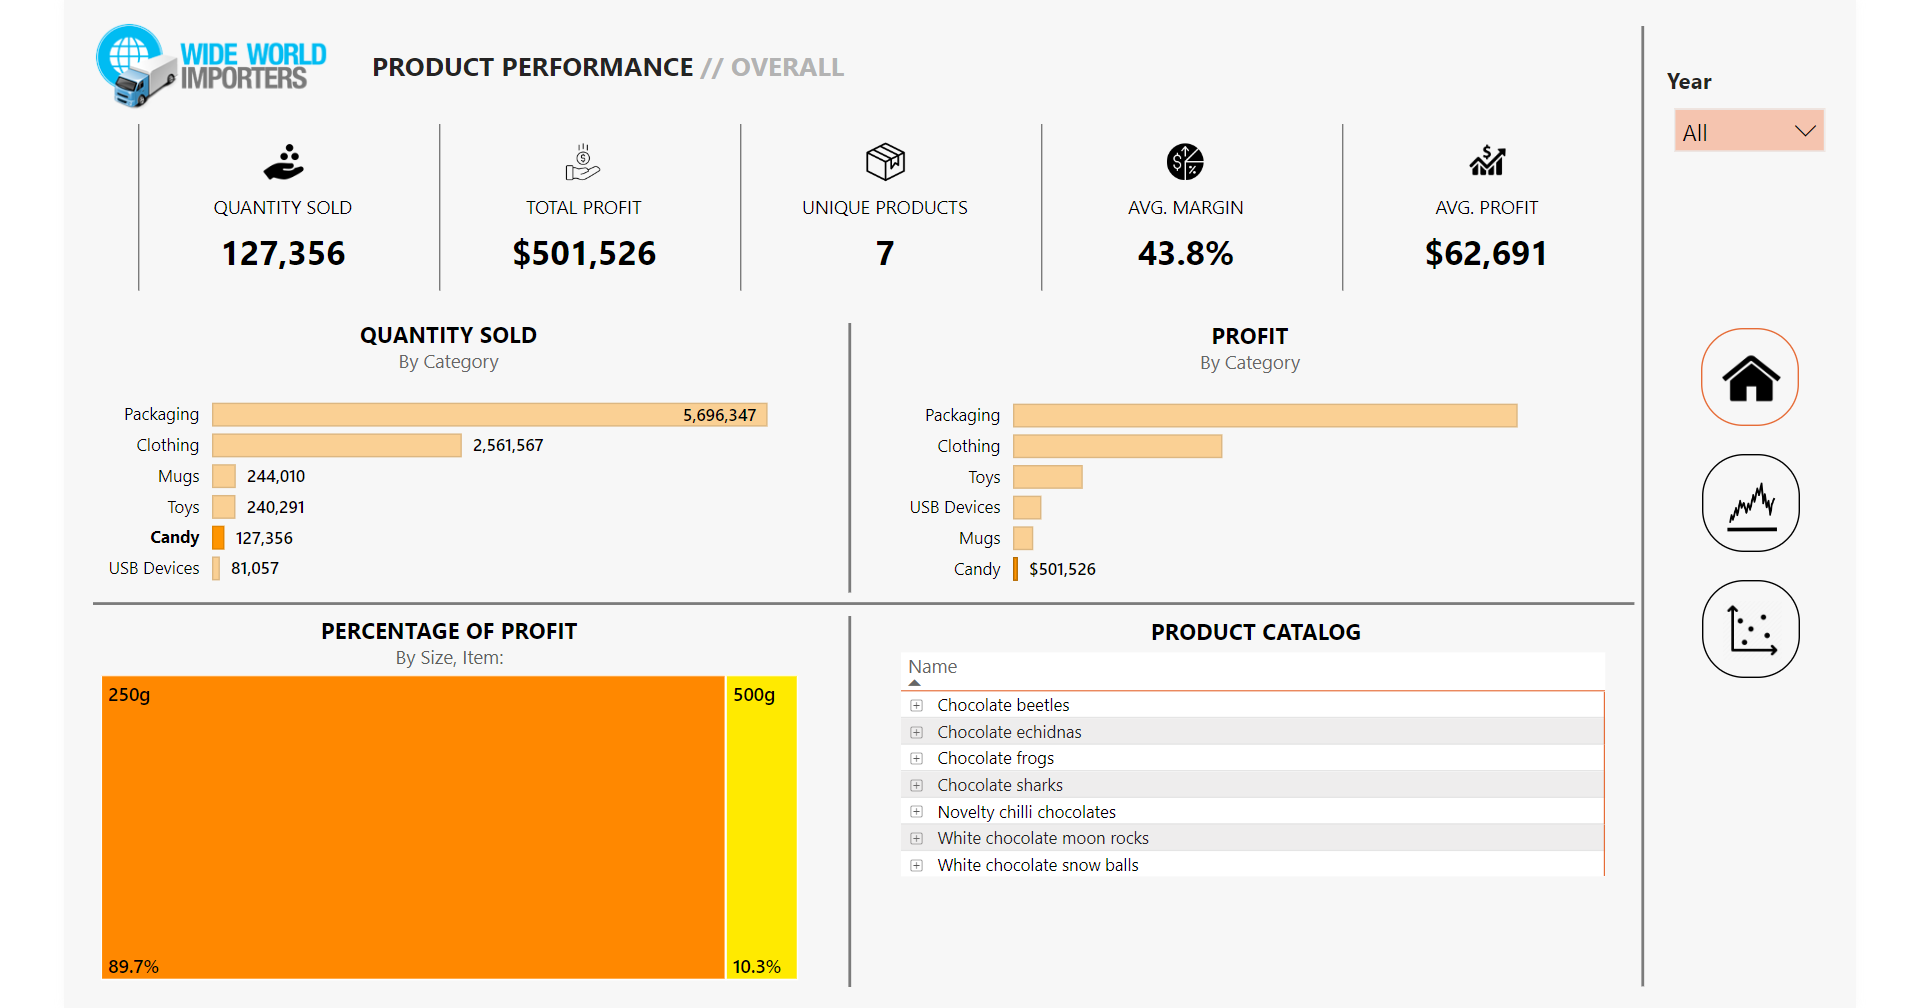

The dashboard page shown, as its layout file describes it:
{"tool":"powerbi","page":{"name":"Home","canvas":[1280,720],"ordinal":0},"visuals":[{"type":"textbox","box":[215,29,550,49],"z":0},{"type":"cardVisual","fields":{"Data":["product.Quantity Sold","product.Total Profit","product.Unique Products","product.Average Margin","product.Average Profit"]},"box":[47.7,83.6,1080.6,129.4],"z":1000},{"type":"barChart","title":"QUANTITY SOLD","fields":{"Category":["product.Category"],"Y":["product.Quantity Sold"]},"box":[21,228,508,201],"z":2000},{"type":"barChart","title":"PROFIT","fields":{"Category":["product.Category"],"Y":["product.Total Profit"]},"box":[592.8,228.4,508.7,200.6],"z":3000},{"type":"image","box":[11,10,195,73],"z":4000},{"type":"pivotTable","title":"PRODUCT CATALOG","fields":{"Rows":["product.StockItemName","product.Size","product.Color"]},"box":[592.8,439.7,517.6,265.1],"z":5000},{"type":"treemap","title":"PERCENTAGE OF PROFIT","fields":{"Values":["product.Percentage Quantity"],"Group":["product.Size"]},"box":[21.4,439.6,507.7,265.5],"z":6000},{"type":"shape","box":[1121.2,18.8,12.5,686],"z":7000},{"type":"shape","box":[20.4,423.1,1101,16.5],"z":8000},{"type":"shape","box":[555.2,231,12.5,192.5],"z":9000},{"type":"shape","box":[555.2,439.7,12.5,265.1],"z":10000},{"type":"slicer","title":"Year","fields":{"Values":["product.Year"]},"box":[1140,46.6,128.1,66.3],"z":11000},{"type":"image","box":[1169.9,324.4,70,70],"z":12000},{"type":"image","box":[1169.5,234.6,70,70],"z":13000},{"type":"image","box":[1169.9,414.4,70,70],"z":14000}]}

Visuals, with their boxes on the page's 1280x720 design canvas (x1, y1, x2, y2). These are canvas units, not pixel positions in the 1919x1008 screenshot, which may show the page scaled, cropped or inside an application window:
textbox: (215, 29, 765, 78)
cardVisual - product.Quantity Sold x product.Total Profit: (48, 84, 1128, 213)
"QUANTITY SOLD" barChart: (21, 228, 529, 429)
"PROFIT" barChart: (593, 228, 1102, 429)
image: (11, 10, 206, 83)
"PRODUCT CATALOG" pivotTable: (593, 440, 1110, 705)
"PERCENTAGE OF PROFIT" treemap: (21, 440, 529, 705)
shape: (1121, 19, 1134, 705)
shape: (20, 423, 1121, 440)
shape: (555, 231, 568, 424)
shape: (555, 440, 568, 705)
"Year" slicer: (1140, 47, 1268, 113)
image: (1170, 324, 1240, 394)
image: (1170, 235, 1240, 305)
image: (1170, 414, 1240, 484)
